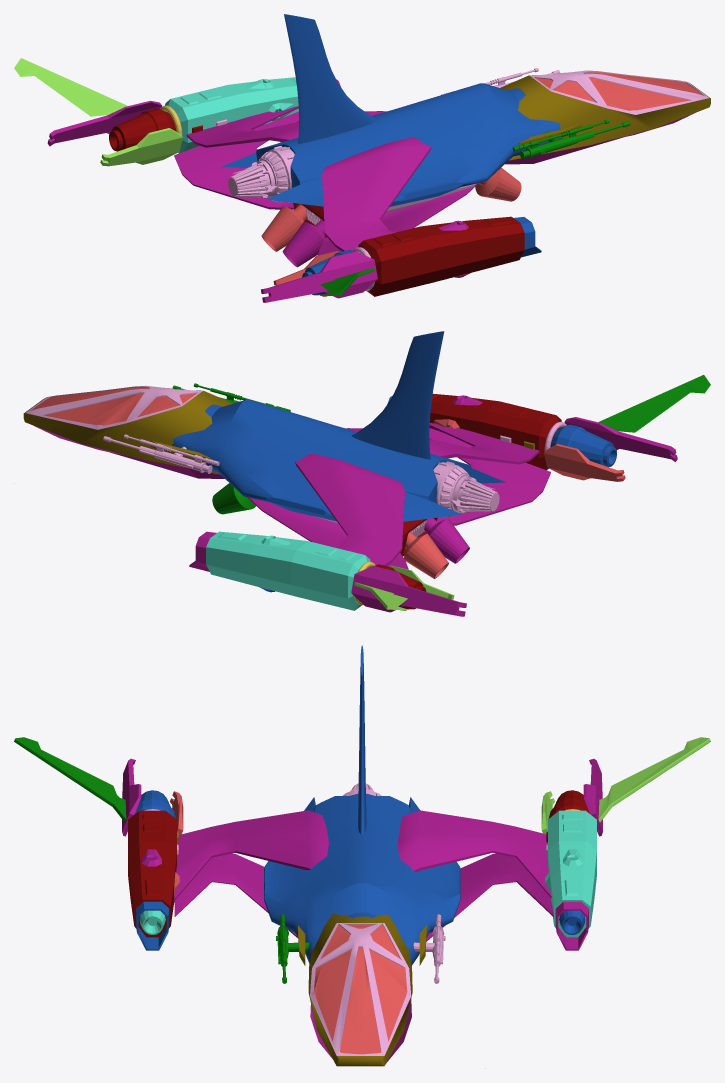
The model's file is space-ship.obj.
The picture shows the model from 3 angles, top to bottom: view 1: azimuth 30°, elevation 25°; view 2: azimuth 150°, elevation 25°; view 3: azimuth 270°, elevation 25°; orthographic projection. The views are drawn at different scales.
Parts seen in each view (by area): view 1: Fuselage_y_001, ea_tb_bott_001, tb_eng_hou_001, Group_001, NF_Cockpit_001, ea_tb_bott_002, tb_eng_hou_003, NF_Cockpi2_001, Box09_001, NF_Cockpi3_001, Group_002, TB_wing_2_002 (+10 smaller); view 2: Fuselage_y_001, ea_tb_bott_001, tb_eng_hou_003, Group_001, ea_tb_bott_002, NF_Cockpit_001, tb_eng_hou_001, NF_Cockpi2_001, Box09_002, NF_Cockpi3_001, Group_002, TB_wing_2_001 (+10 smaller); view 3: Fuselage_y_001, ea_tb_bott_001, NF_Cockpi2_001, ea_tb_bott_002, tb_eng_hou_001, tb_eng_hou_003, NF_Cockpi3_001, NF_Cockpit_001, TB_wing_2_002, TB_wing_2_001, Group_001, Box09_002 (+5 smaller).
Boxes of the visible parts, <box> form: Fuselage_y_001: <box>222,83,561,206</box>; ea_tb_bott_001: <box>186,106,431,251</box>; tb_eng_hou_001: <box>358,216,524,296</box>; Group_001: <box>284,14,377,143</box>; NF_Cockpit_001: <box>500,75,710,160</box>; ea_tb_bott_002: <box>174,111,478,255</box>; tb_eng_hou_003: <box>165,77,298,153</box>; NF_Cockpi2_001: <box>535,72,702,110</box>; Box09_001: <box>261,251,377,302</box>; NF_Cockpi3_001: <box>529,70,708,114</box>; Group_002: <box>228,146,294,202</box>; TB_wing_2_002: <box>14,58,127,116</box>; Fuselage_y_001: <box>172,399,505,521</box>; ea_tb_bott_001: <box>295,423,539,565</box>; tb_eng_hou_003: <box>206,531,370,610</box>; Group_001: <box>351,331,444,459</box>; ea_tb_bott_002: <box>247,428,550,569</box>; NF_Cockpit_001: <box>23,390,232,474</box>; tb_eng_hou_001: <box>429,393,561,470</box>; NF_Cockpi2_001: <box>31,387,196,425</box>; Box09_002: <box>351,566,466,616</box>; NF_Cockpi3_001: <box>25,385,202,429</box>; Group_002: <box>433,461,499,517</box>; TB_wing_2_001: <box>598,375,710,432</box>; Fuselage_y_001: <box>264,793,460,965</box>; ea_tb_bott_001: <box>174,810,551,900</box>; NF_Cockpi2_001: <box>314,924,407,1054</box>; ea_tb_bott_002: <box>174,853,553,941</box>; tb_eng_hou_001: <box>128,810,176,937</box>; tb_eng_hou_003: <box>548,810,596,937</box>; NF_Cockpi3_001: <box>310,923,411,1055</box>; NF_Cockpit_001: <box>308,914,412,1066</box>; TB_wing_2_002: <box>598,737,710,822</box>; TB_wing_2_001: <box>14,737,126,822</box>; Group_001: <box>358,645,366,834</box>; Box09_002: <box>583,758,602,836</box>.
Size of the model in its own units: 1078462 by 460352 by 1101532.
